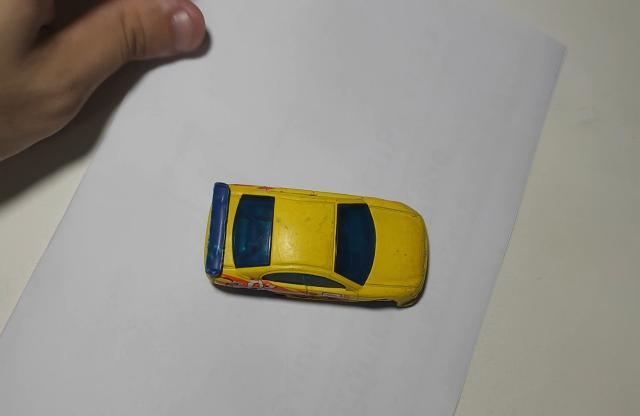02_OZSOME: (203, 183, 430, 311)
